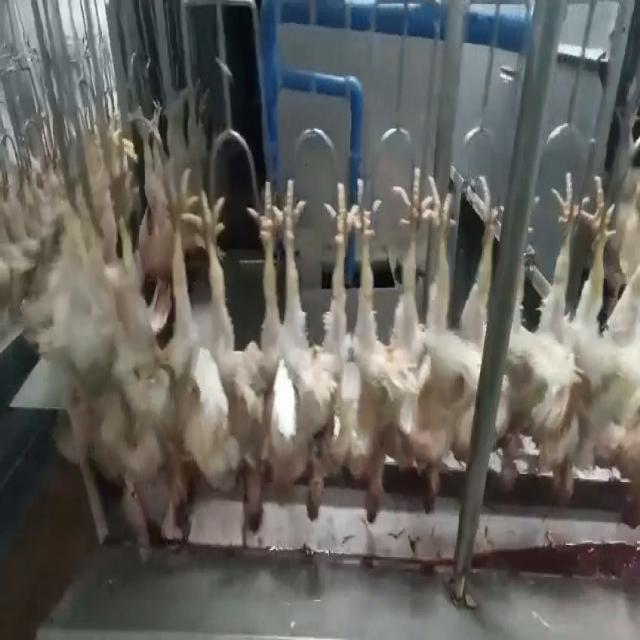chicken: (344, 164, 434, 525), (493, 172, 592, 495), (200, 176, 285, 539), (126, 172, 204, 554), (415, 170, 498, 524), (270, 175, 352, 525), (44, 158, 124, 480), (569, 177, 640, 503)
